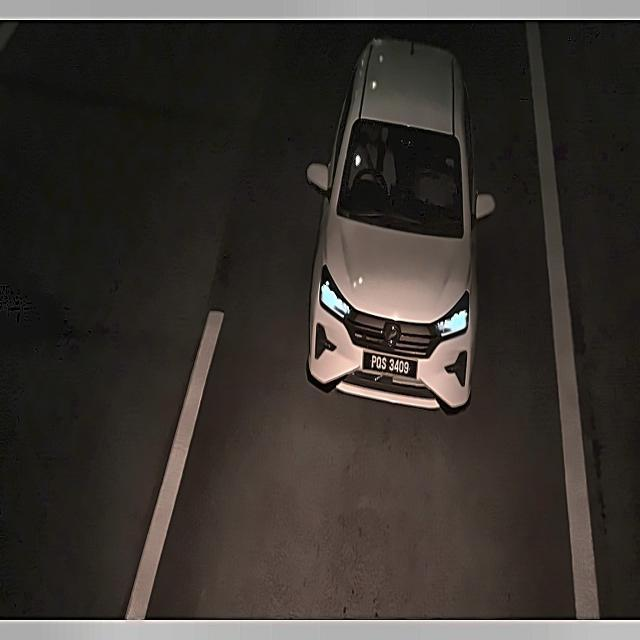car: (356, 348, 427, 381)
